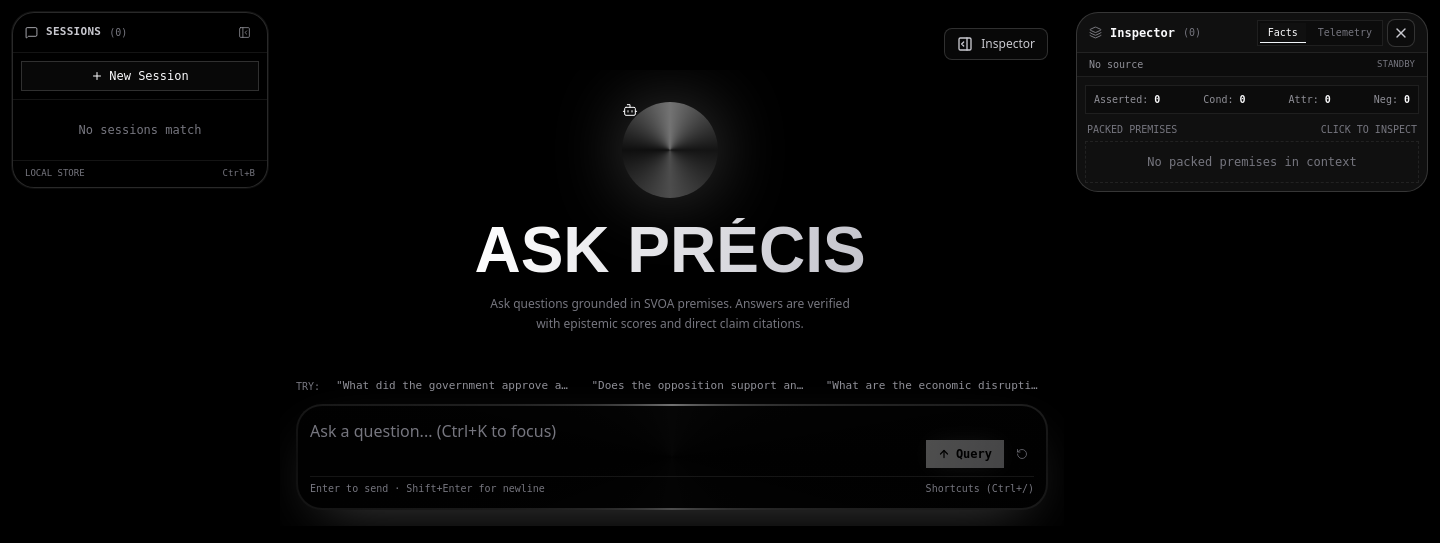
Test: ChatView titles › keeps a name the user chose while the answer was streaming
Type "revenue in 2021" into the text box at (614, 444), box [310,418,918,470]
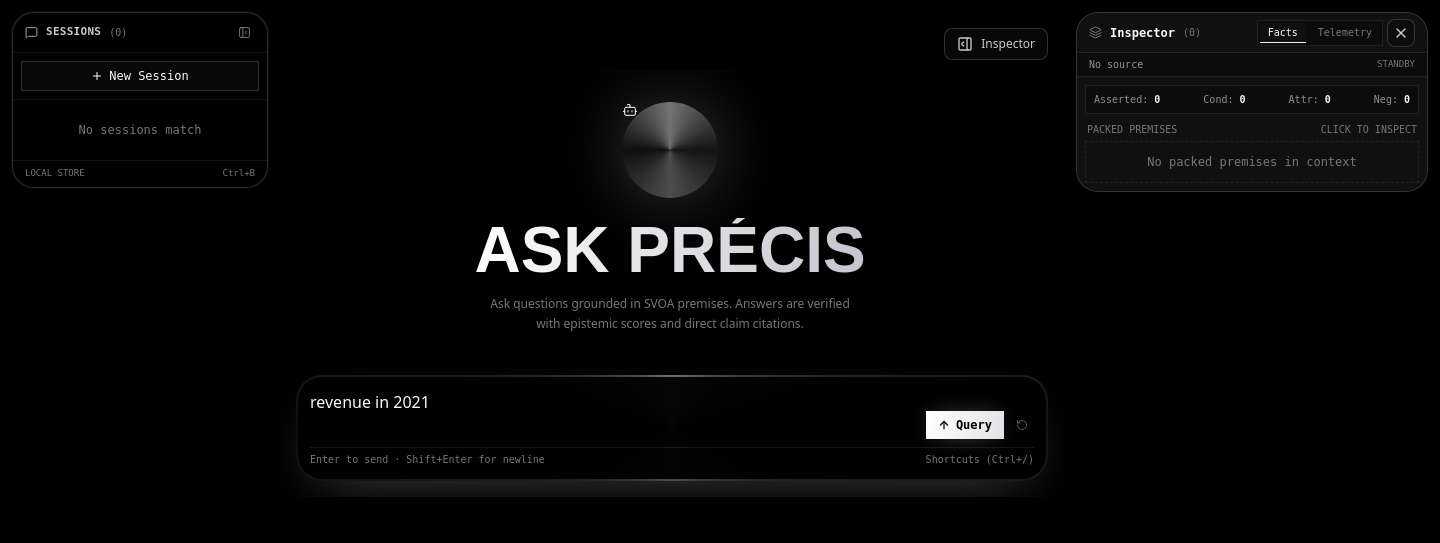
Press Enter in the text box, box [310,389,918,441]
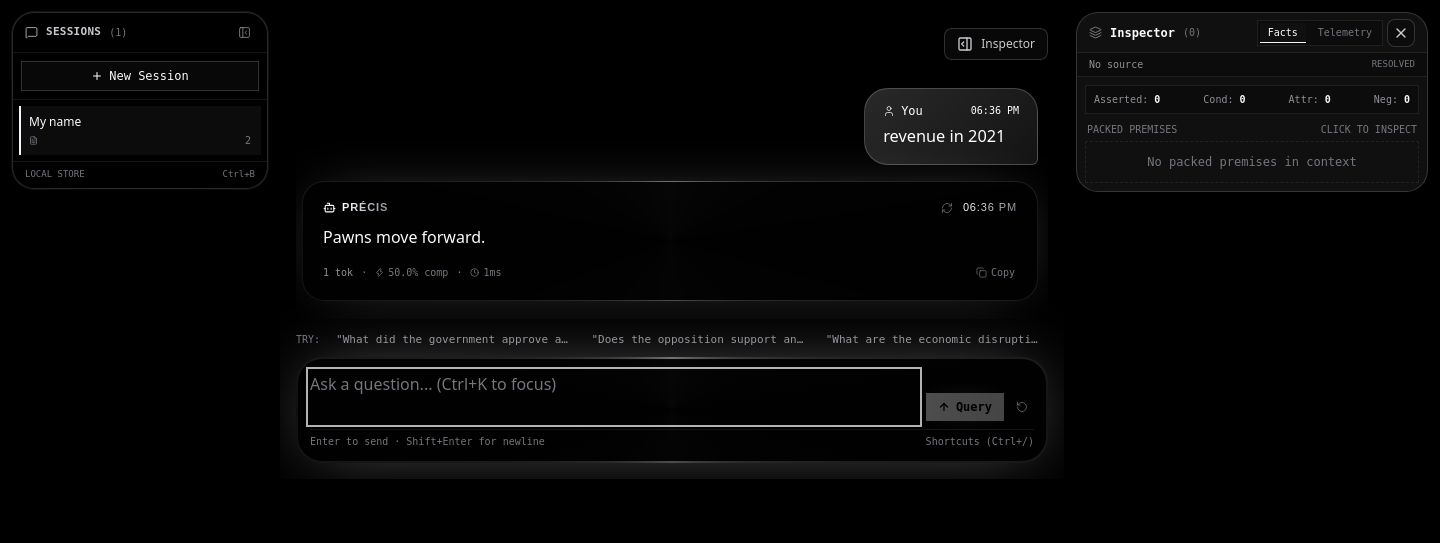
Now the text "My name" is shown, box [29,113,81,130]
